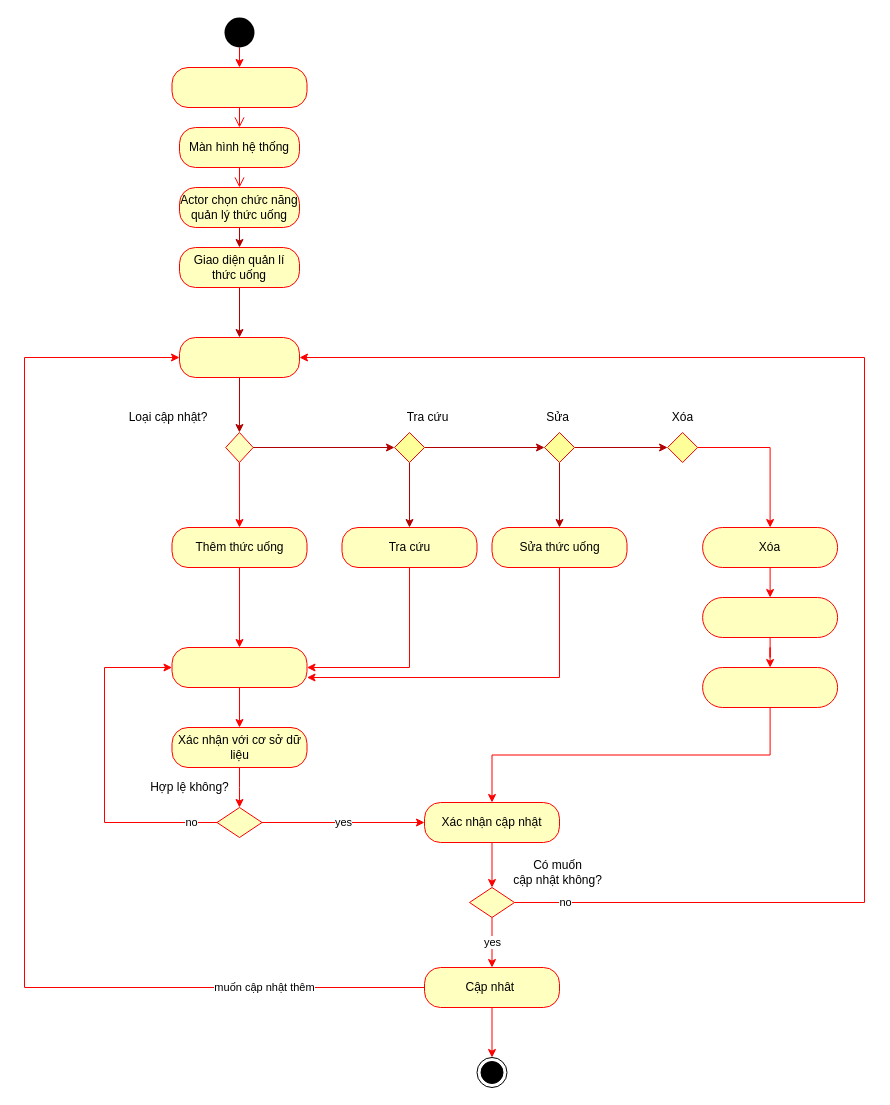
Some shapes in this 890 by 1105 pixel diagram are drawn without their labels. Here are the shapes that lost their labels. From the top down, the centre of each, then its label:
the point at 239,87: From đăng nhập
the point at 239,357: Chọn loại cập nhật
the point at 770,617: Xuất ra danh sách thức uống
the point at 239,667: Actor nhập thức uống
the point at 770,687: Chọn thức uống cần xóa
